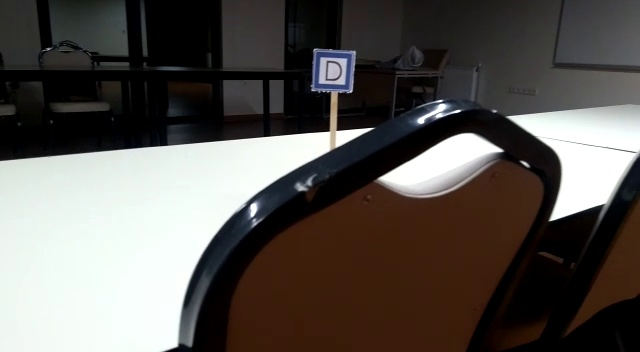durak: (311, 52, 355, 92)
